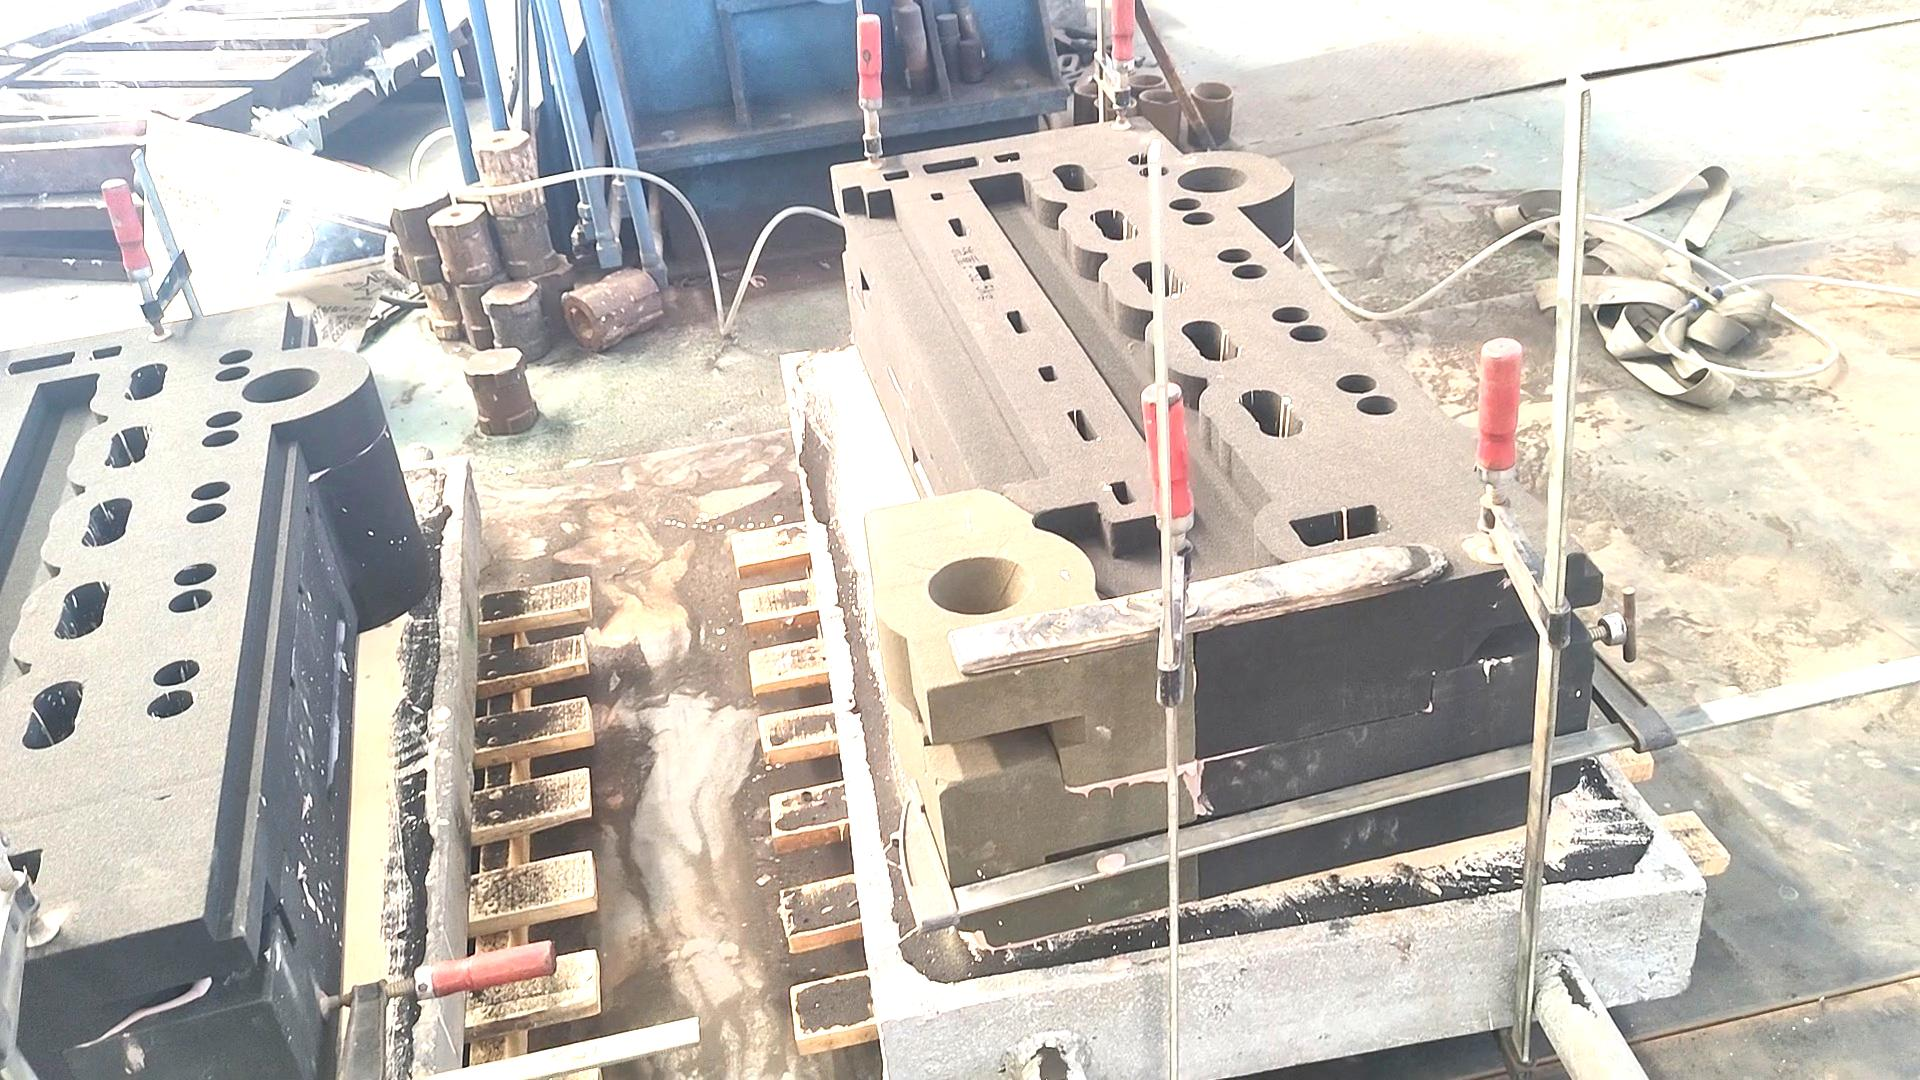pouring hole: (927, 556, 1030, 615), (243, 367, 320, 404), (1176, 165, 1250, 193), (1192, 80, 1233, 102), (1095, 69, 1131, 91), (1095, 94, 1137, 109), (1139, 90, 1182, 105), (1127, 73, 1166, 88), (1073, 83, 1112, 96)
